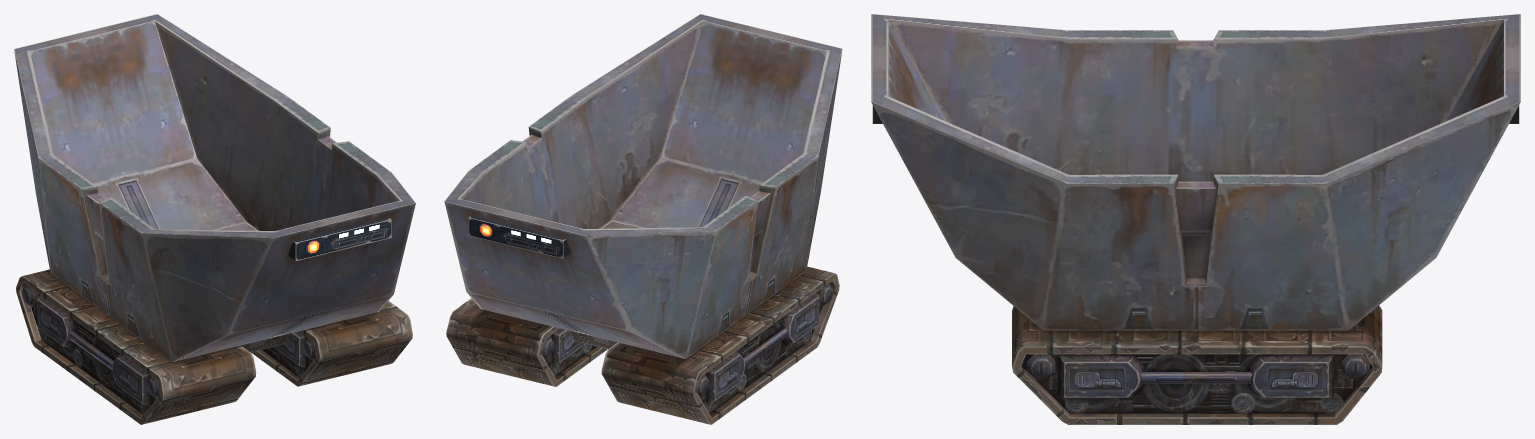
Rendered from all_item_construction_dumpster_droid.glb.
3 renders of one model, left to right at view 1: azimuth 30°, elevation 25°; view 2: azimuth 150°, elevation 25°; view 3: azimuth 270°, elevation 25°, orthographic. The views are drawn at different scales.
Parts seen in each view (by area): view 1: all_item_construction_dumpster_droid; view 2: all_item_construction_dumpster_droid; view 3: all_item_construction_dumpster_droid.
Boxes of the visible parts, bbox=[...] form: all_item_construction_dumpster_droid: bbox=[14, 14, 415, 424]; all_item_construction_dumpster_droid: bbox=[444, 14, 842, 424]; all_item_construction_dumpster_droid: bbox=[871, 14, 1520, 424].
Size of the model in its own units: 0.2207 by 0.1941 by 0.3935.
1 material, 1 textured.
